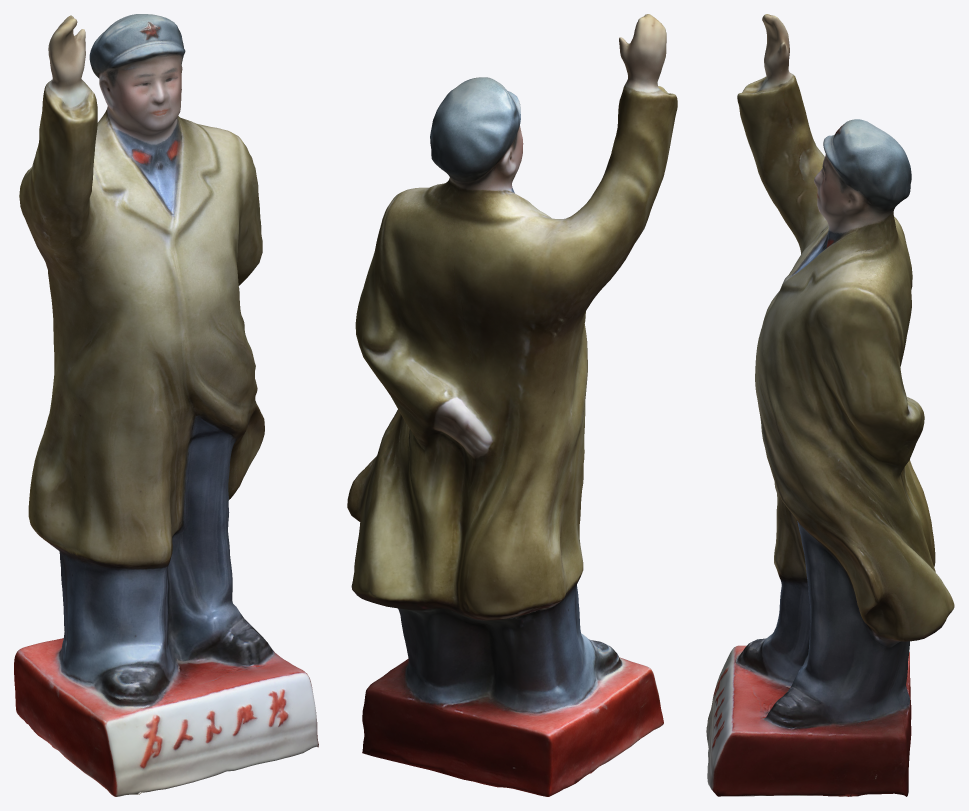
Rendered from mao-scan.glb.
3 views of the same model, side by side, from view 1: azimuth 30°, elevation 25°; view 2: azimuth 150°, elevation 25°; view 3: azimuth 270°, elevation 25° (orthographic). The views are drawn at different scales.
Parts seen in each view (by area): view 1: Object_3; view 2: Object_3; view 3: Object_3.
Boxes of the visible parts, x1,y1,x2,y2 form: Object_3: (14,14,318,796); Object_3: (347,14,677,796); Object_3: (706,14,954,796).
Size of the model in its own units: 1.47 by 3.92 by 1.28.
Materials: 1 (1 with a texture image).
